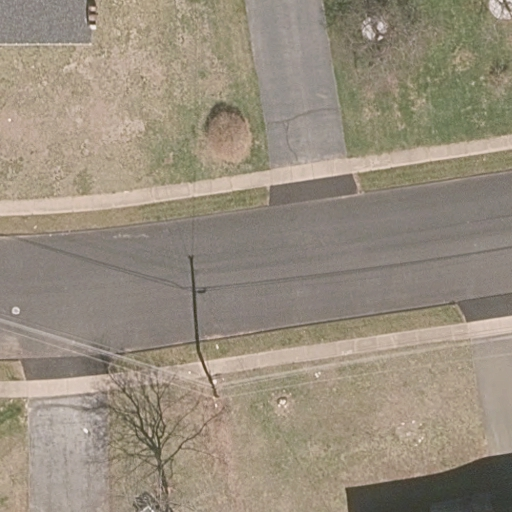DT: (193, 341, 223, 401)
